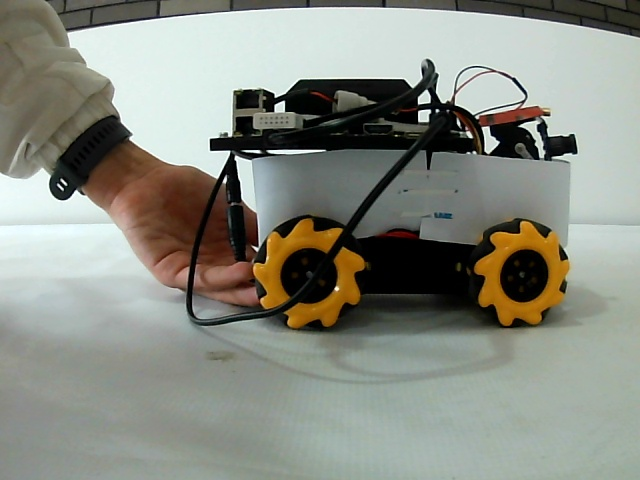car: (210, 81, 570, 312)
paper: (249, 157, 566, 221)
